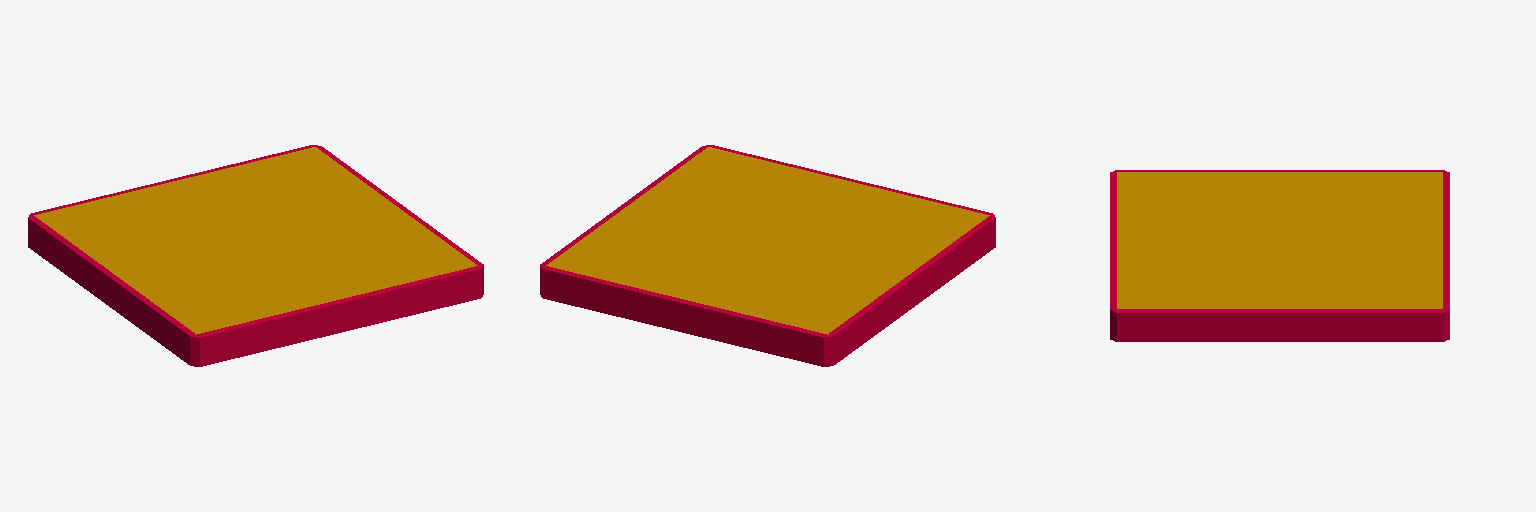
File: tile-special.obj
3 views of the same model, side by side, from view 1: azimuth 30°, elevation 25°; view 2: azimuth 150°, elevation 25°; view 3: azimuth 270°, elevation 25° (orthographic).
Parts seen in each view (by area): view 1: Cube.001; view 2: Cube.001; view 3: Cube.001.
Part boxes in pixels (left/top/right/bottom): Cube.001: left=28, top=145, right=483, bottom=366; Cube.001: left=540, top=145, right=995, bottom=366; Cube.001: left=1110, top=170, right=1449, bottom=341.
Bounding box in the file's own units: 2 × 0.2 × 2.